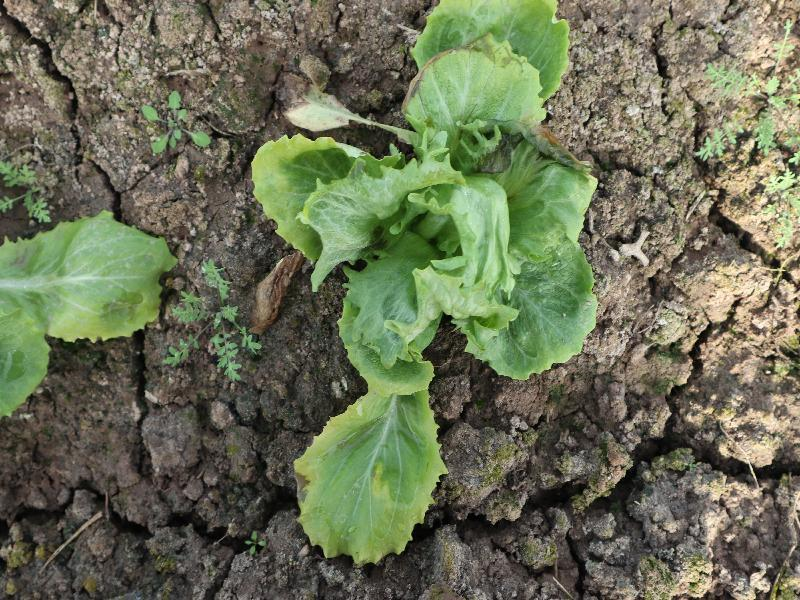lettuce: (250, 0, 599, 564)
